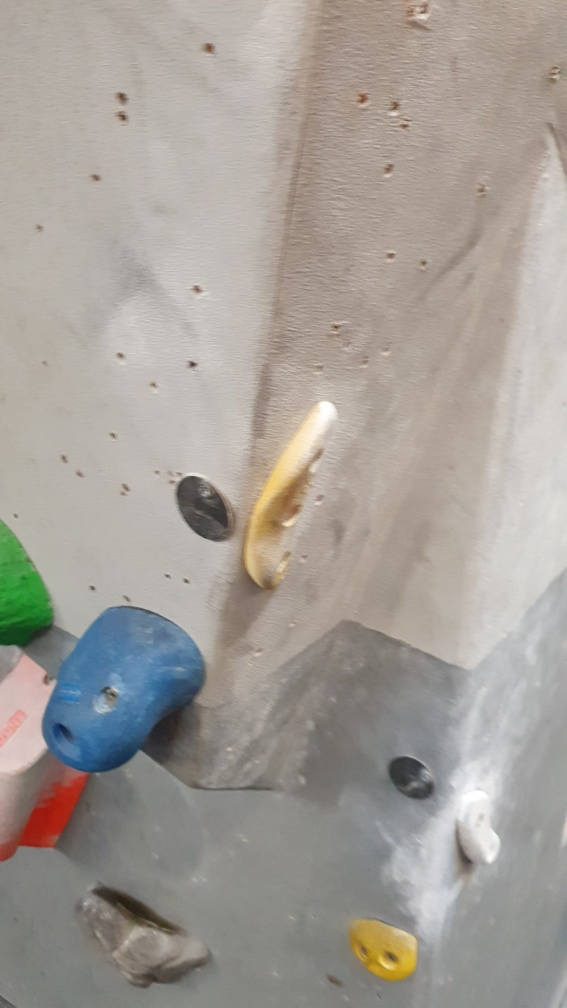Hand Start: (176, 471, 243, 545), (387, 750, 440, 802)
Jug: (79, 884, 213, 993)
